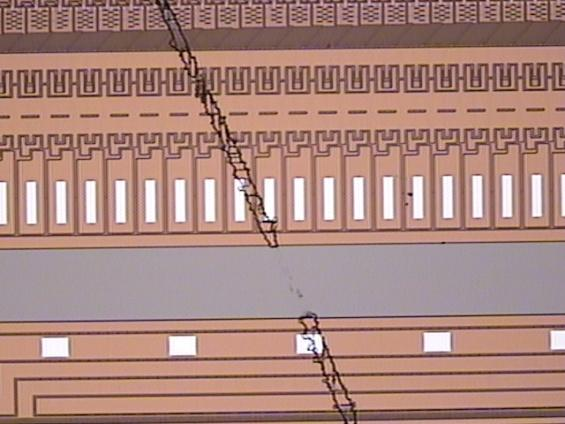SCRATCH: (150, 1, 364, 424)
